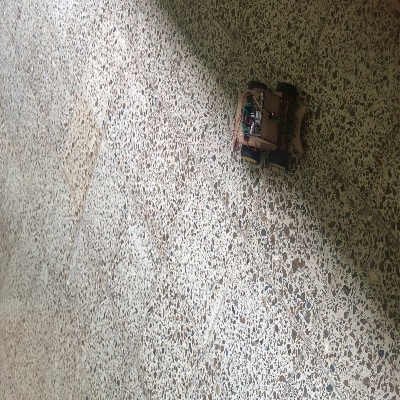Robot: (235, 80, 307, 167)
